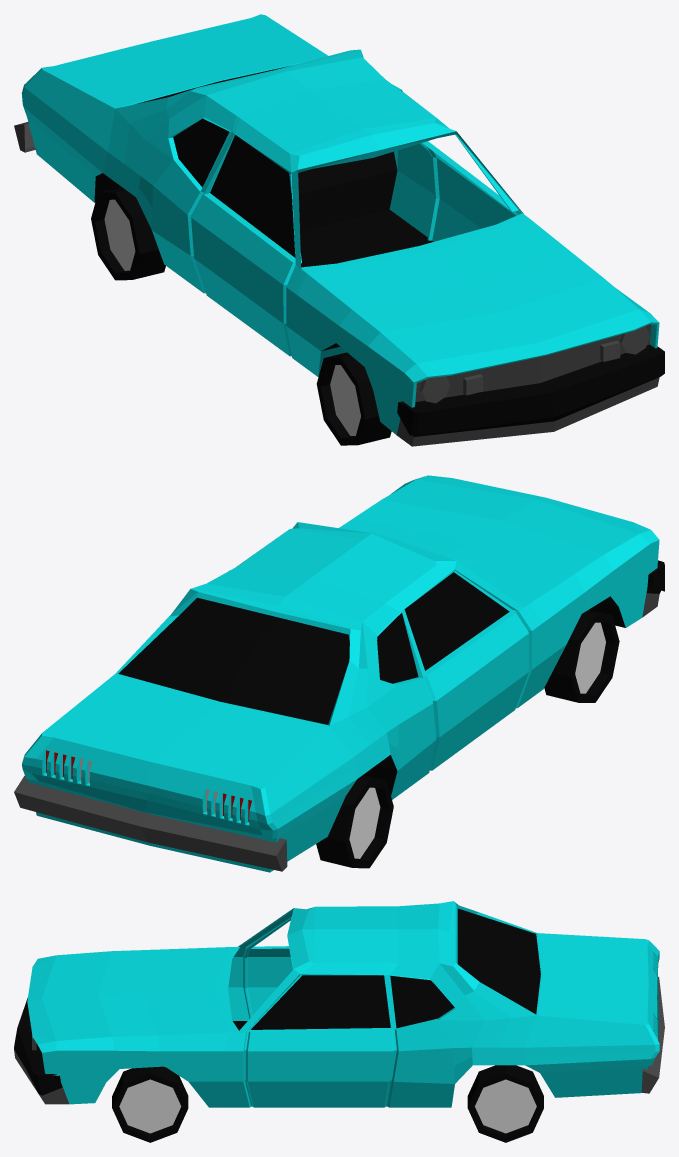
Rendered from car.gltf.
3 renders of one model, top to bottom at view 1: azimuth 30°, elevation 25°; view 2: azimuth 150°, elevation 25°; view 3: azimuth 270°, elevation 25°, orthographic. The views are drawn at different scales.
Parts seen in each view (by area): view 1: Cube; view 2: Cube; view 3: Cube.
Part boxes in pixels (x1,y1,x2,y2): Cube: [14, 14, 664, 446]; Cube: [14, 475, 664, 872]; Cube: [14, 901, 664, 1142].
Bounding box in the file's own units: 1.24 × 0.9433 × 3.38.
